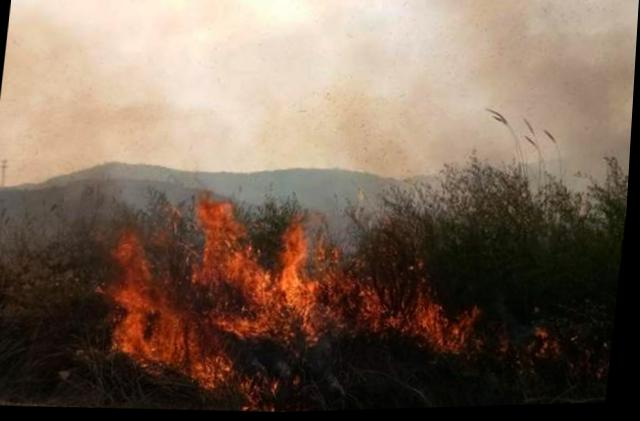fire: (108, 188, 494, 393)
